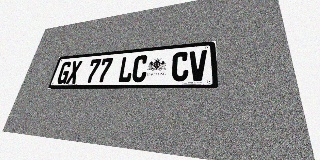7: (96, 58, 113, 83), (84, 59, 101, 83)
C: (171, 51, 189, 81), (131, 55, 149, 82)
G: (56, 61, 72, 84)
L: (117, 56, 135, 83)
V: (189, 50, 207, 81)
X: (66, 60, 82, 84)
